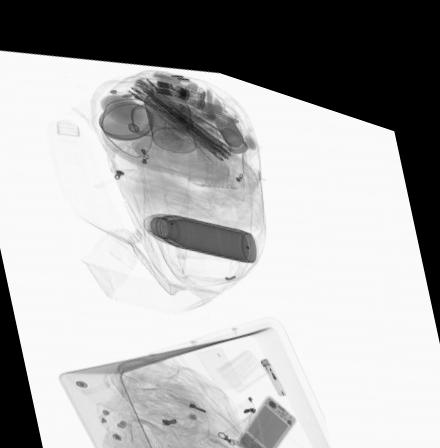Lighter: (256, 337, 287, 377)
